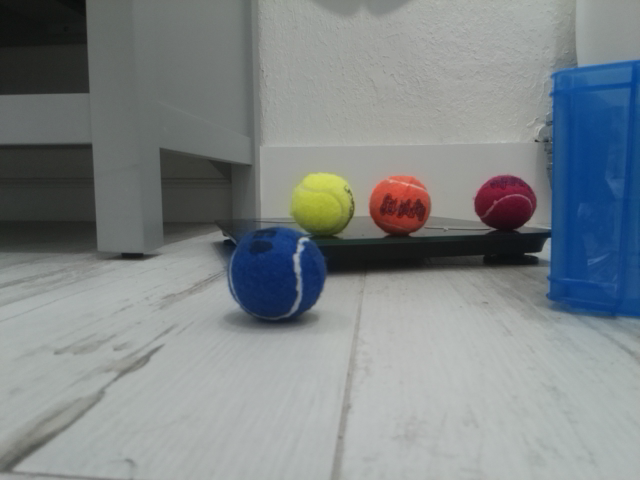blue-ball: (226, 225, 327, 324)
orange-ball: (367, 174, 432, 236)
red-ball: (473, 172, 537, 232)
yellow-ball: (290, 170, 356, 237)
